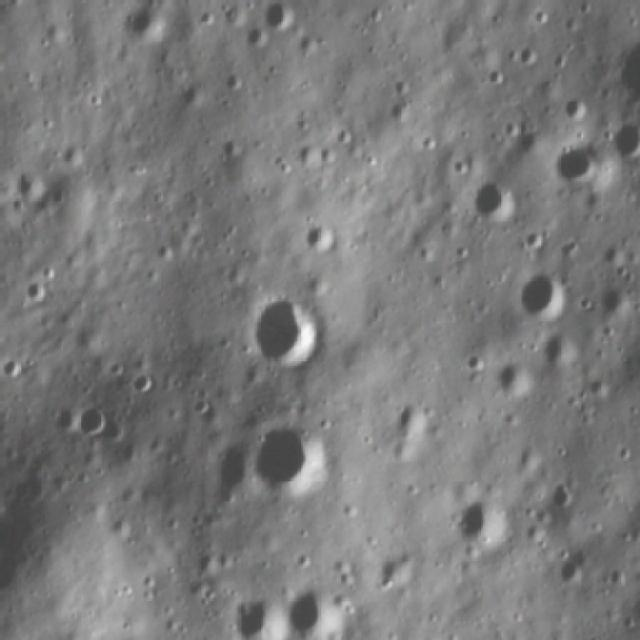crater: (240, 282, 328, 380), (244, 419, 338, 504), (281, 572, 356, 638), (196, 433, 256, 505), (446, 486, 511, 552), (513, 266, 578, 326), (464, 175, 524, 231), (228, 585, 286, 637), (548, 138, 600, 190), (494, 352, 543, 403), (534, 325, 584, 373), (120, 0, 166, 51), (296, 214, 346, 258), (540, 473, 585, 518), (69, 402, 114, 446), (9, 163, 53, 208), (553, 544, 590, 591), (590, 280, 635, 318), (264, 0, 296, 37), (128, 363, 160, 400), (610, 120, 638, 160), (559, 93, 596, 122)
